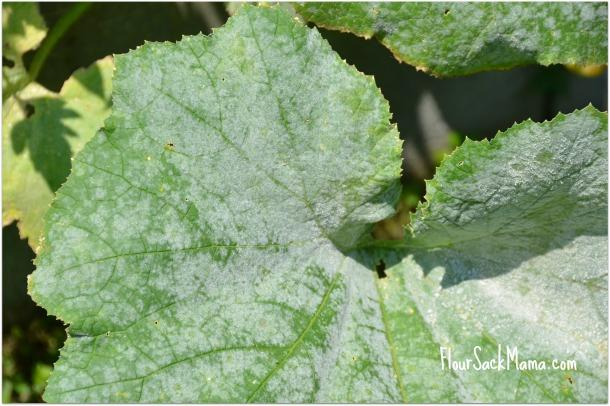Squash Powdery mildew leaf: (18, 3, 609, 406)
